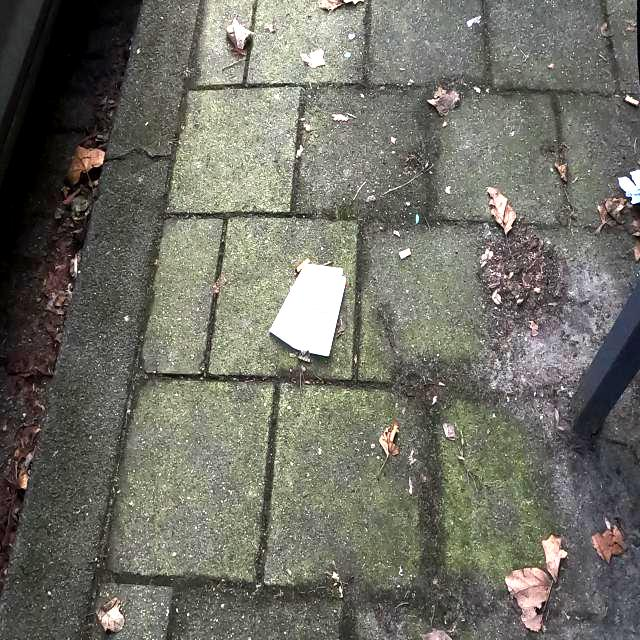Coffee Cup: (267, 262, 347, 358)
Paper: (616, 168, 640, 204)
